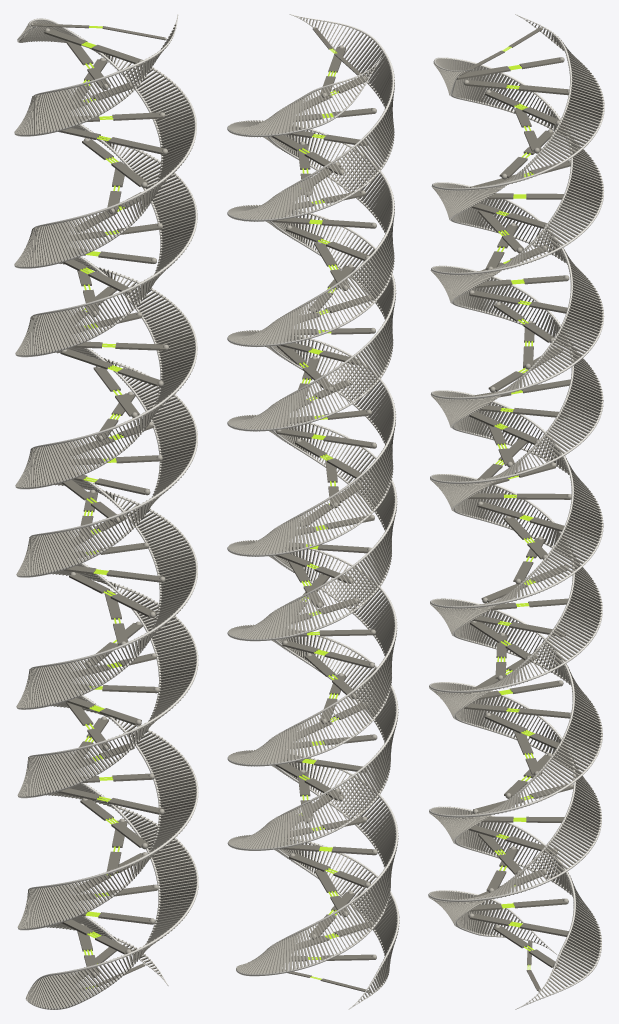
The model's file is helix.glb.
3 views of the same model, side by side, from view 1: azimuth 30°, elevation 25°; view 2: azimuth 150°, elevation 25°; view 3: azimuth 270°, elevation 25° (orthographic). The views are drawn at different scales.
Parts seen in each view (by area): view 1: Strand B louvres, Strand A louvres, Base pairs, Rails, Hydrogen bonds, Sugar links; view 2: Strand A louvres, Strand B louvres, Base pairs, Rails, Hydrogen bonds, Sugar links; view 3: Strand A louvres, Strand B louvres, Base pairs, Rails, Hydrogen bonds, Sugar links.
Part boxes in pixels (left/top/right/bottom): Strand B louvres: left=14, top=24, right=197, bottom=1009; Strand A louvres: left=14, top=18, right=196, bottom=976; Base pairs: left=32, top=23, right=167, bottom=991; Rails: left=14, top=14, right=198, bottom=1009; Hydrogen bonds: left=80, top=26, right=124, bottom=988; Sugar links: left=30, top=23, right=168, bottom=977; Strand A louvres: left=228, top=66, right=398, bottom=974; Strand B louvres: left=228, top=17, right=399, bottom=1002; Base pairs: left=271, top=27, right=375, bottom=992; Rails: left=227, top=14, right=399, bottom=1009; Hydrogen bonds: left=299, top=48, right=338, bottom=979; Sugar links: left=272, top=27, right=377, bottom=993; Strand A louvres: left=429, top=19, right=604, bottom=1004; Strand B louvres: left=428, top=58, right=603, bottom=947; Base pairs: left=457, top=27, right=573, bottom=990; Rails: left=428, top=14, right=604, bottom=1009; Hydrogen bonds: left=494, top=46, right=535, bottom=969; Sugar links: left=456, top=27, right=573, bottom=991.
Bounding box in the file's own units: 2.39 × 14.41 × 2.46.
